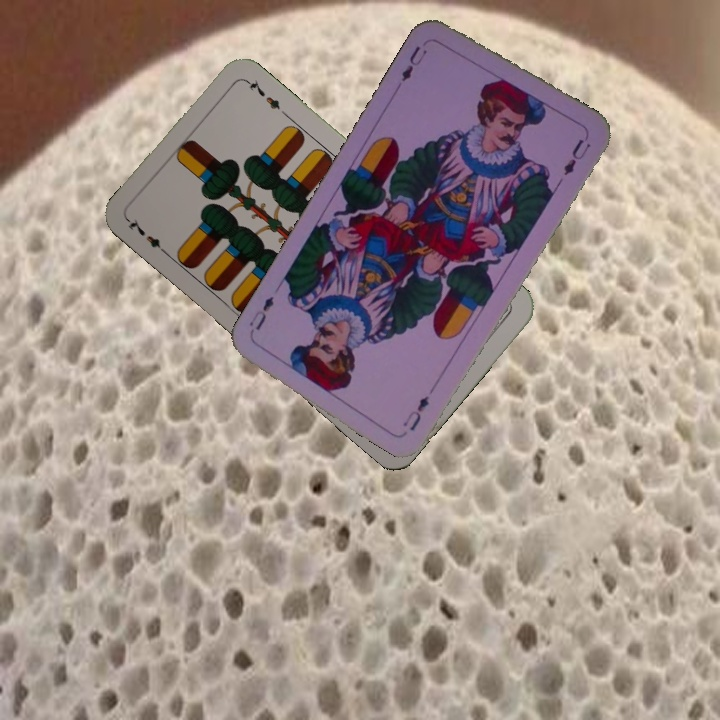E7: (124, 214, 172, 260)
EU: (399, 391, 432, 434), (397, 42, 430, 84)
